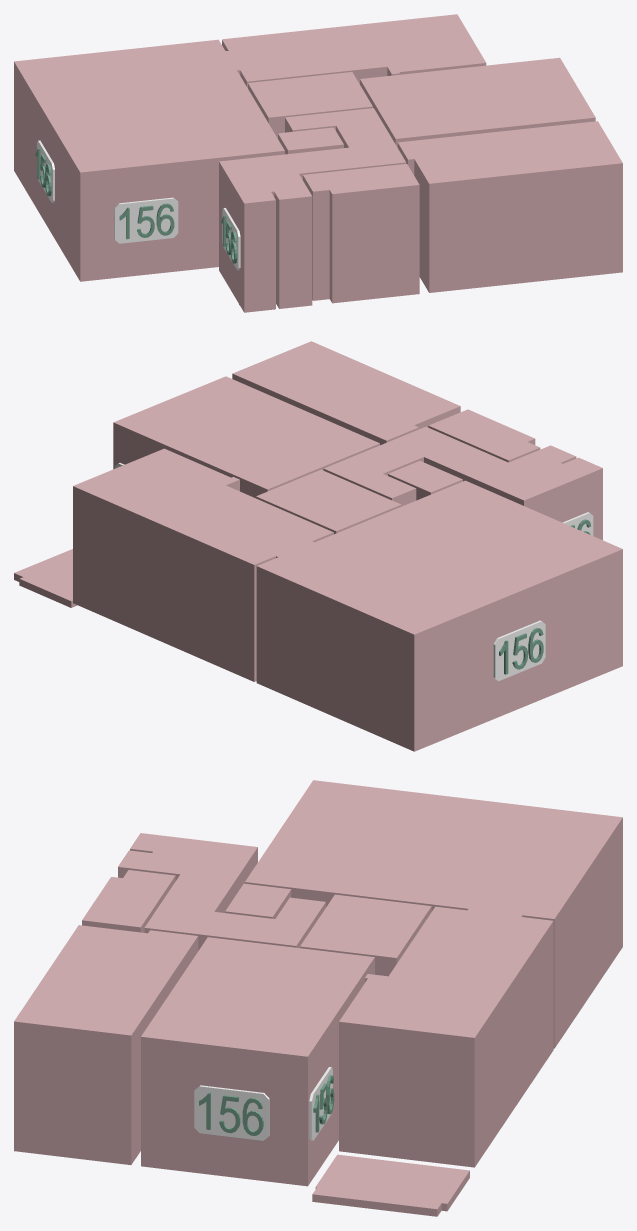
3 views of the same model, one above another, from view 1: azimuth 30°, elevation 25°; view 2: azimuth 150°, elevation 25°; view 3: azimuth 270°, elevation 25° (orthographic). The views are drawn at different scales.
Visible parts, largest first — view 1: g_7, g_1, g_3, g_2, g_0, g_6, g_4, g_12, g_5, g_20, g_28; view 2: g_7, g_6, g_0, g_3, g_1, g_4, g_2, g_8, g_28, g_5; view 3: g_7, g_6, g_0, g_1, g_3, g_8, g_4, g_2, g_16, g_5, g_24.
Part boxes in pixels (x1=…): g_7: x1=14, y1=39, x2=284, y2=281; g_1: x1=397, y1=121, x2=622, y2=292; g_3: x1=219, y1=108, x2=406, y2=312; g_2: x1=303, y1=164, x2=419, y2=303; g_0: x1=360, y1=57, x2=595, y2=147; g_6: x1=222, y1=14, x2=486, y2=88; g_4: x1=248, y1=72, x2=372, y2=138; g_12: x1=114, y1=197, x2=178, y2=243; g_5: x1=278, y1=127, x2=343, y2=154; g_20: x1=222, y1=208, x2=240, y2=270; g_28: x1=37, y1=140, x2=54, y2=202; g_7: x1=256, y1=480, x2=622, y2=751; g_6: x1=73, y1=448, x2=333, y2=681; g_0: x1=113, y1=376, x2=379, y2=498; g_3: x1=323, y1=426, x2=602, y2=540; g_1: x1=232, y1=341, x2=460, y2=445; g_4: x1=256, y1=469, x2=401, y2=534; g_2: x1=428, y1=409, x2=540, y2=462; g_8: x1=14, y1=549, x2=77, y2=607; g_28: x1=493, y1=620, x2=545, y2=680; g_5: x1=388, y1=461, x2=462, y2=500; g_7: x1=245, y1=780, x2=622, y2=1048; g_6: x1=339, y1=906, x2=553, y2=1167; g_0: x1=141, y1=937, x2=374, y2=1186; g_1: x1=14, y1=925, x2=198, y2=1164; g_3: x1=118, y1=833, x2=325, y2=950; g_8: x1=312, y1=1154, x2=469, y2=1216; g_4: x1=300, y1=894, x2=431, y2=976; g_2: x1=82, y1=870, x2=175, y2=932; g_16: x1=194, y1=1085, x2=269, y2=1140; g_5: x1=225, y1=883, x2=291, y2=918; g_24: x1=309, y1=1067, x2=332, y2=1140.
Bounding box in the file's own units: 12.73 × 2.74 × 10.96.
